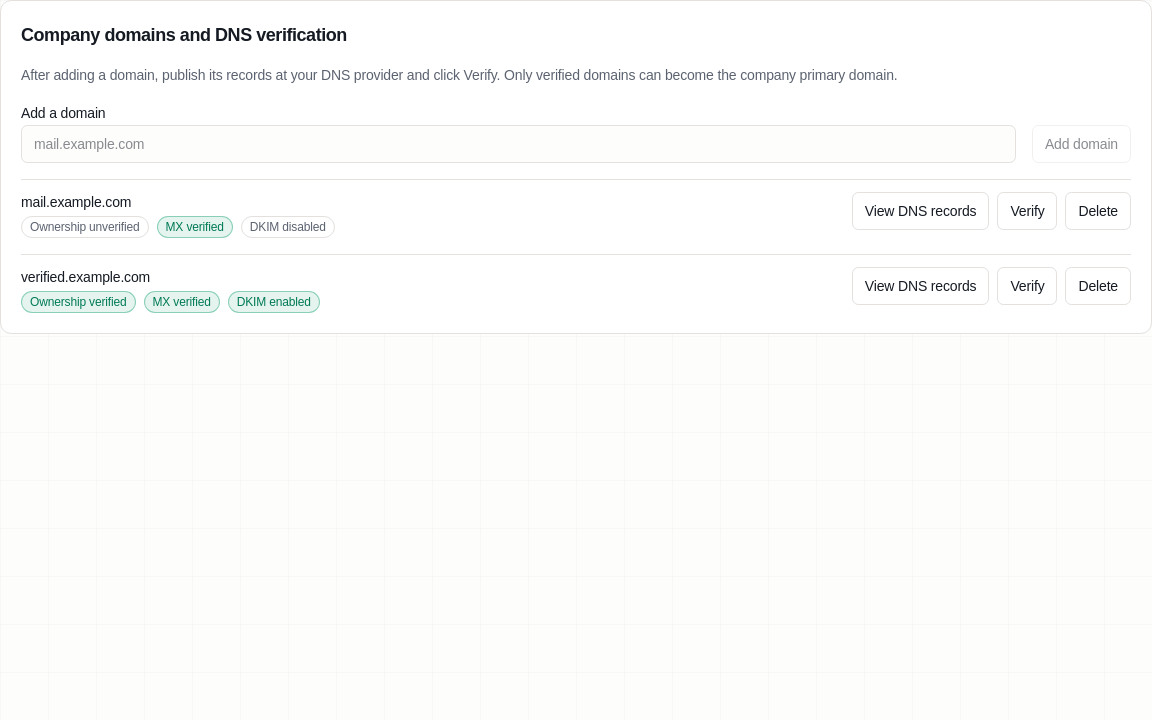
CompanyDomainsSection › shows DNS records and explains a missing DKIM record
This screenshot has width=1152, height=720.
Expected: the text "mail.example.com" is shown, x1=21 y1=194 x2=131 y2=210
Click the button "View DNS records" in the row of "DKIM disabled".
click(921, 211)  # box x1=852 y1=192 x2=990 y2=230
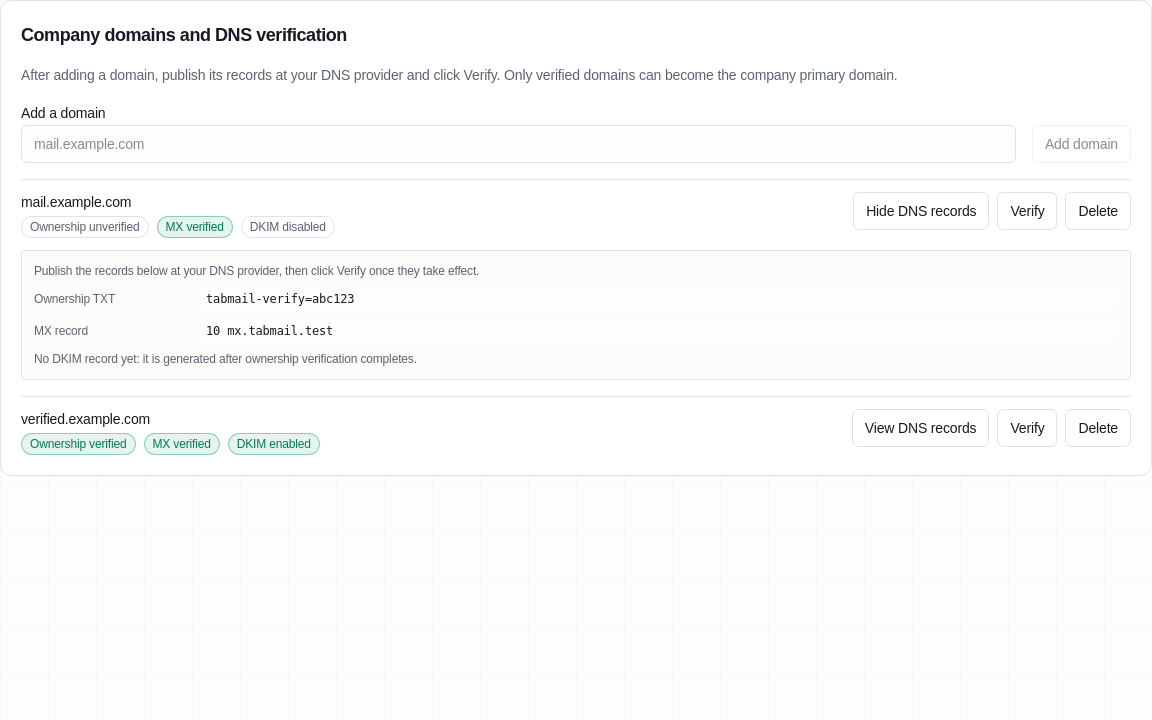
Now the text "tabmail-verify=abc123" is shown, box x1=198 y1=287 x2=1118 y2=311
Now the text "No DKIM record yet: it is generated after ownership verification completes." is shown, box x1=34 y1=352 x2=417 y2=366
